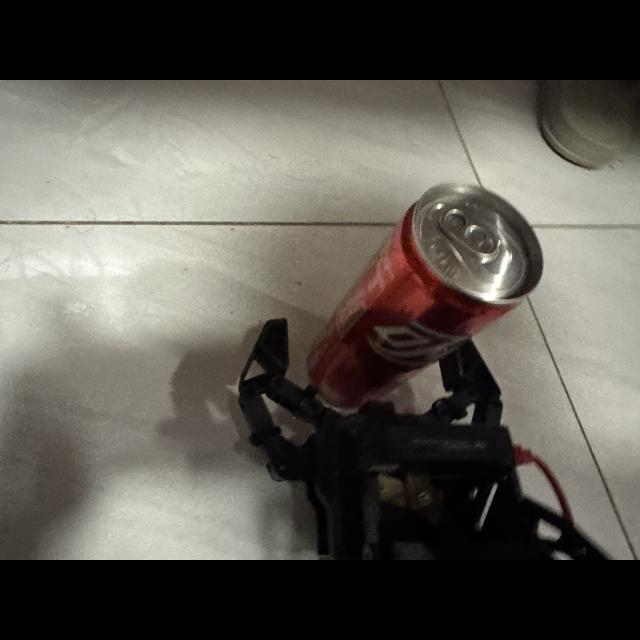Cola: (296, 172, 554, 412)
